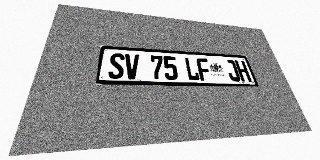5: (163, 56, 179, 80)
7: (150, 55, 165, 80)
F: (196, 58, 212, 81)
H: (234, 60, 252, 82)
J: (224, 60, 241, 82)
L: (184, 57, 200, 81)
S: (108, 53, 125, 79)
V: (124, 54, 139, 79)
